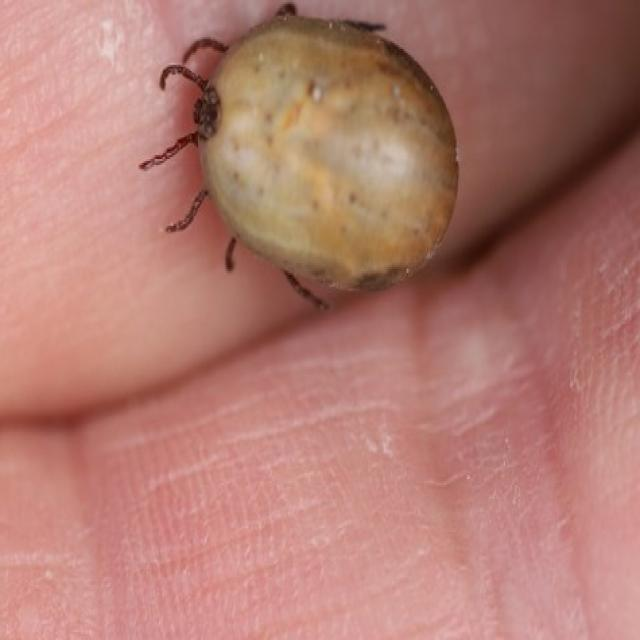Dermacentor Reticulatus-F-Fed: (140, 4, 459, 310)
